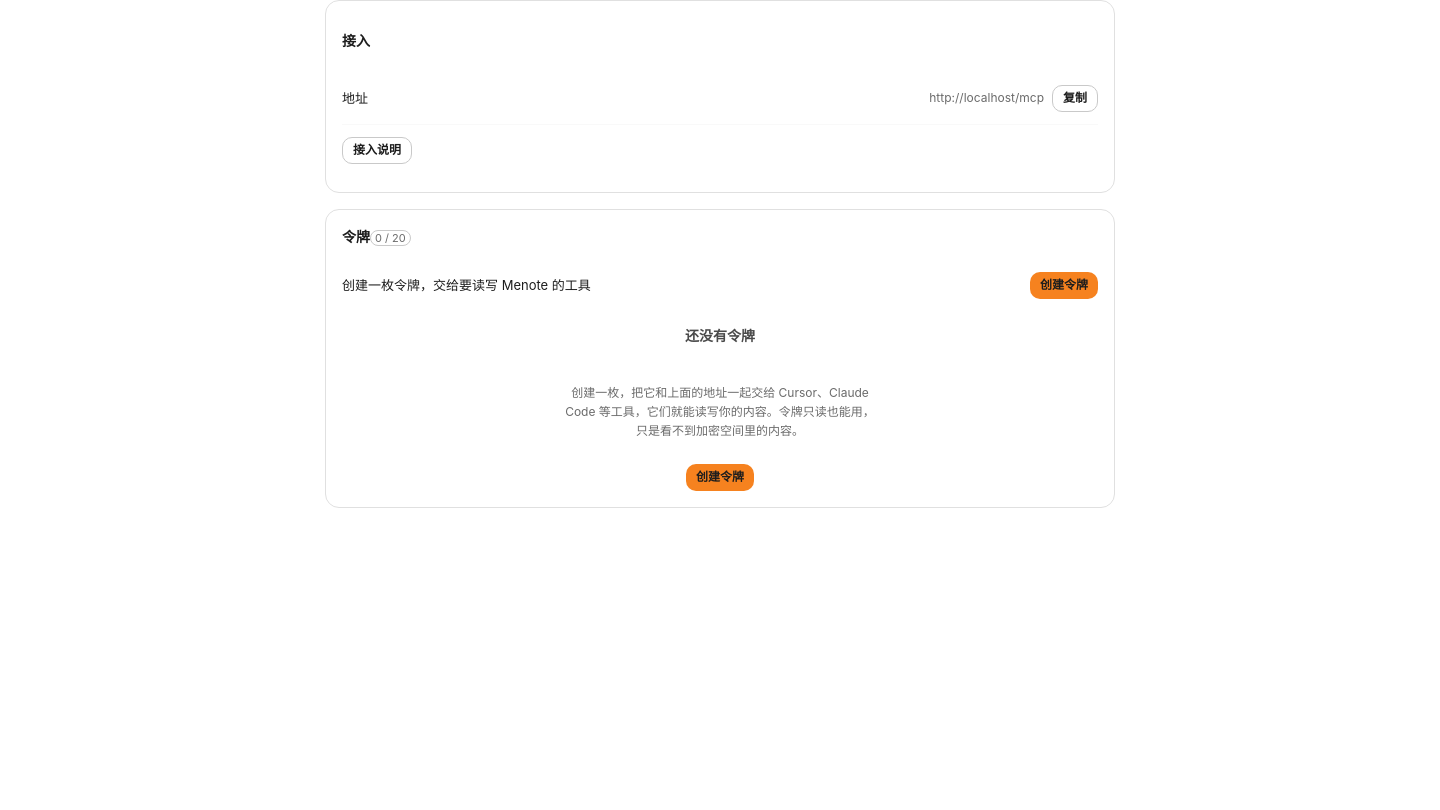
Test: 设置 › MCP：创建弹窗 › 默认全关：只读恒含、三个权限位不勾、含 Memo 不勾、URL 方式不勾
Expected: the text "还没有令牌" is shown, [685, 325, 755, 346]
Click the button "创建令牌" in the row of "创建一枚令牌，交给要读写 Menote 的工具" at (1064, 285), box [1030, 272, 1098, 299]
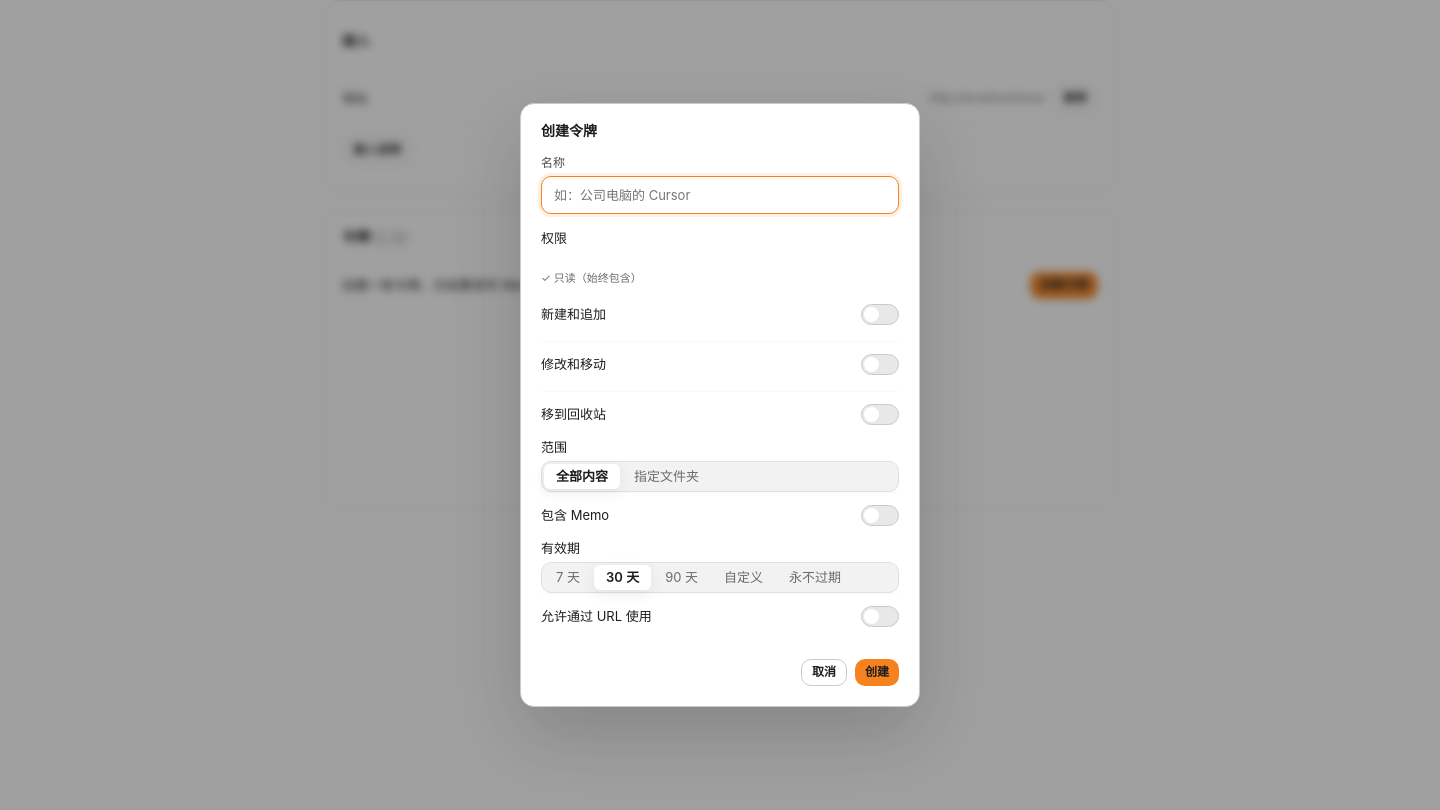
Result: the text "✓ 只读（始终包含）" is shown at [541, 272, 642, 286]
